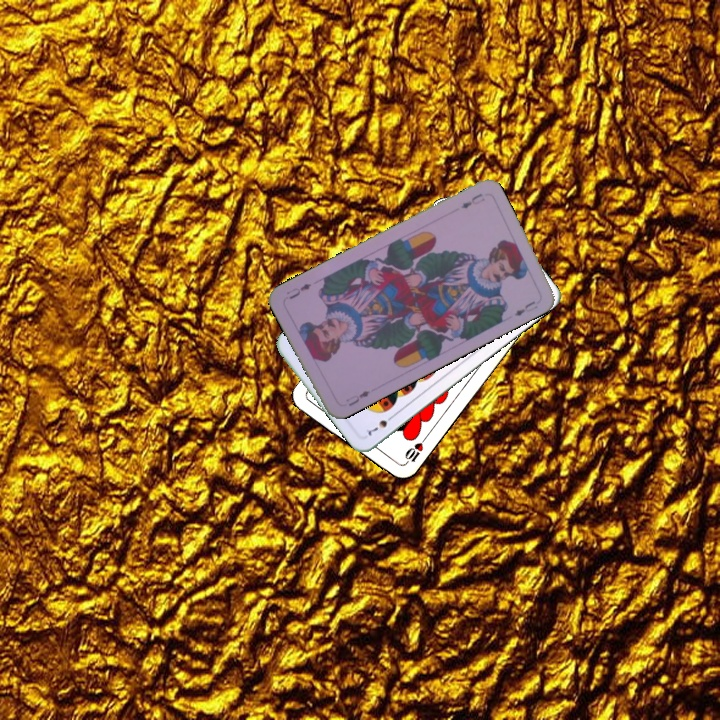EU: (342, 386, 372, 409), (456, 189, 487, 211)
H10: (399, 433, 429, 468)
S7: (362, 410, 397, 439)
